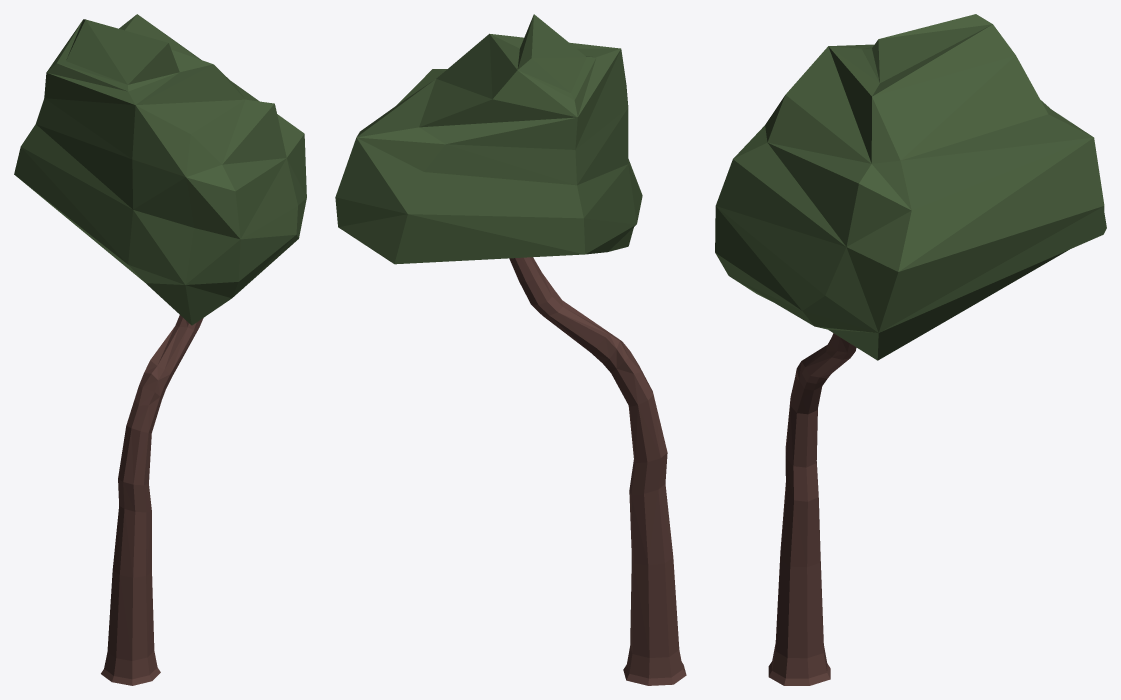
Rendered from tree_orange.s3.glb.
3 renders of one model, left to right at view 1: azimuth 30°, elevation 25°; view 2: azimuth 150°, elevation 25°; view 3: azimuth 270°, elevation 25°, orthographic. The views are drawn at different scales.
Size of the model in its own units: 0.3336 by 0.7689 by 0.4037.
